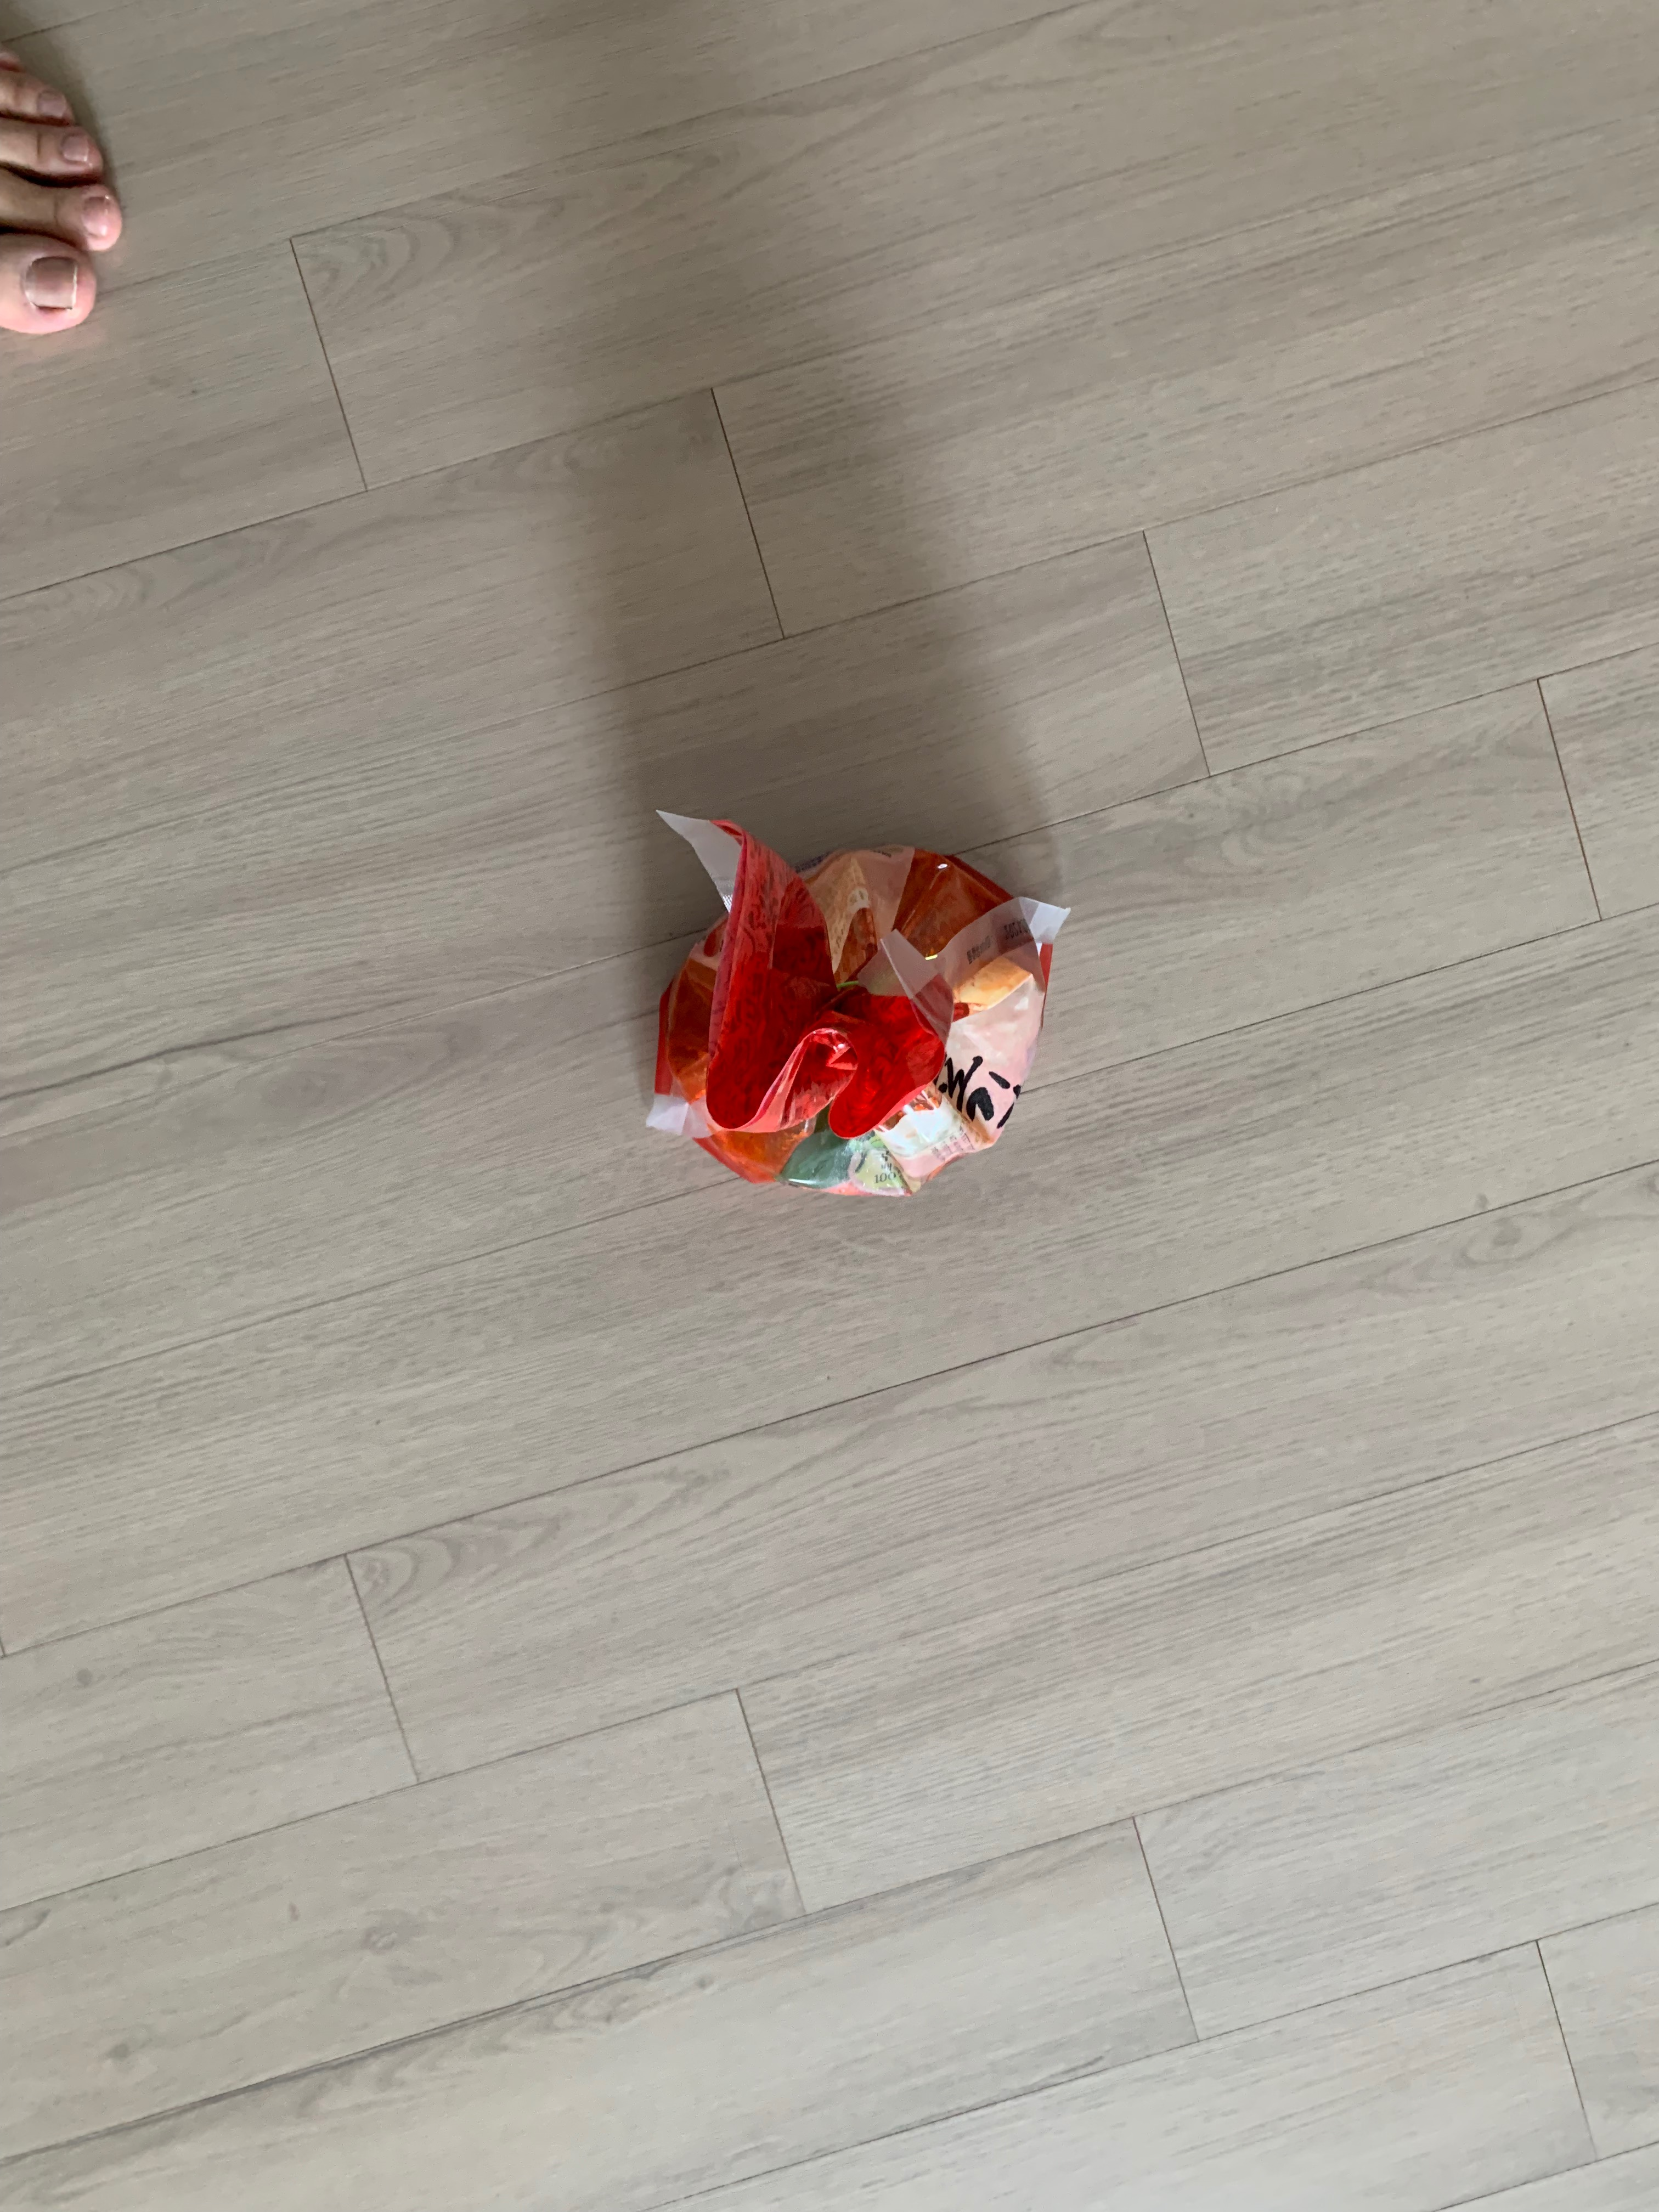kimchi: (657, 843, 1054, 1202)
